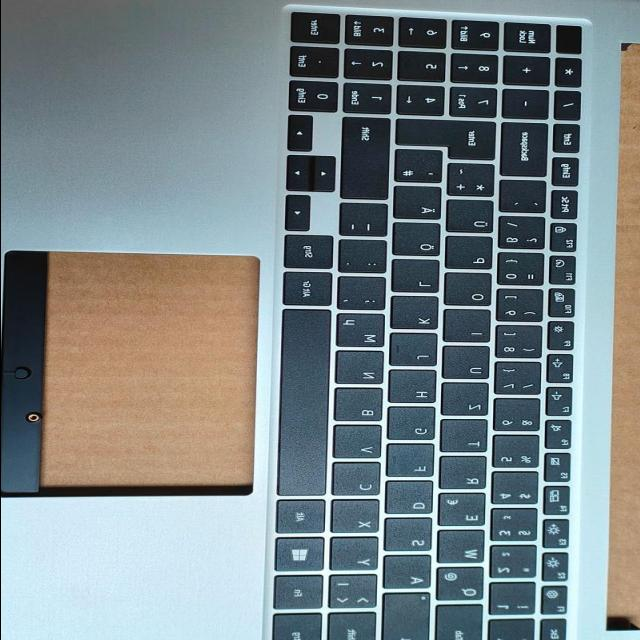0: (499, 255, 548, 289)
1: (491, 585, 540, 619)
2: (493, 548, 542, 582)
3: (494, 511, 543, 546)
4: (494, 474, 544, 508)
5: (495, 438, 544, 472)
6: (495, 400, 544, 434)
7: (496, 364, 545, 398)
8: (497, 328, 546, 362)
9: (499, 291, 547, 325)
a: (385, 557, 435, 592)
accent: (503, 183, 552, 216)
ae: (395, 188, 445, 222)
alt-left: (277, 501, 327, 537)
altgr-right: (285, 274, 335, 310)
b: (336, 389, 387, 425)
c: (333, 464, 384, 499)
caret: (491, 622, 539, 640)
comma: (340, 279, 390, 314)
d: (387, 482, 437, 517)
del: (502, 124, 552, 180)
e: (440, 495, 490, 530)
enter: (398, 121, 501, 163)
f: (388, 446, 438, 480)
g: (389, 409, 439, 443)
h: (390, 372, 440, 406)
hash: (397, 152, 447, 186)
i: (446, 312, 495, 346)
j: (392, 335, 442, 369)
k: (392, 298, 442, 332)
keyboard: (262, 6, 603, 640)
l: (394, 262, 444, 296)
less: (331, 577, 383, 613)
m: (337, 316, 389, 351)
minus: (342, 206, 392, 240)
n: (337, 354, 388, 388)
o: (446, 275, 496, 309)
oe: (395, 224, 445, 259)
p: (447, 239, 497, 273)
plus: (450, 166, 500, 200)
point: (341, 242, 391, 277)
q: (438, 569, 488, 605)
r: (440, 458, 490, 493)
s: (386, 519, 436, 555)
shift-left: (330, 614, 381, 640)
shift-lock: (384, 594, 434, 640)
shift-right: (344, 119, 395, 203)
space: (281, 311, 331, 499)
ss: (501, 220, 549, 253)
strg-left: (275, 616, 327, 640)
strg-right: (286, 237, 337, 272)
t: (442, 422, 492, 456)
tab: (438, 607, 488, 640)
u: (444, 349, 494, 383)
ue: (448, 202, 498, 237)
v: (334, 427, 385, 462)
w: (439, 532, 489, 567)
x: (332, 501, 383, 536)
y: (331, 538, 382, 574)
z: (442, 384, 492, 418)
